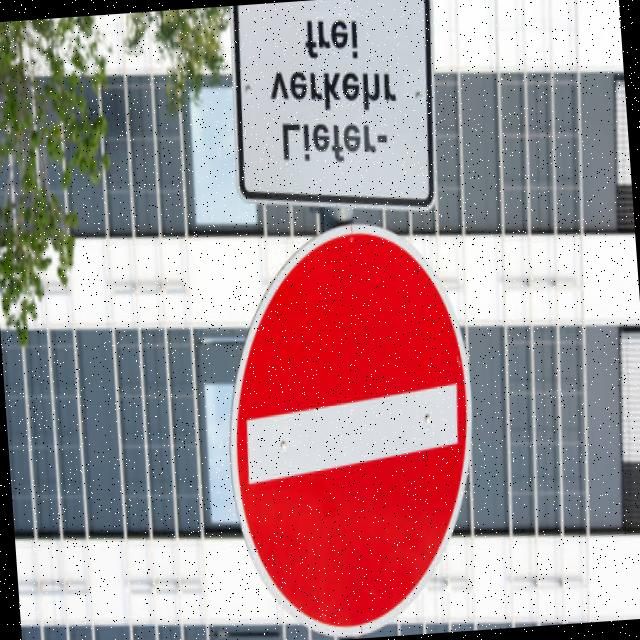do_not_enter: (206, 207, 491, 640)
